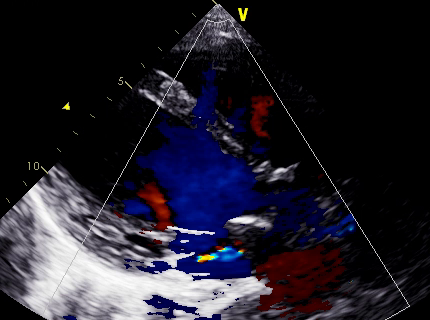MR: (184, 217, 240, 285)
